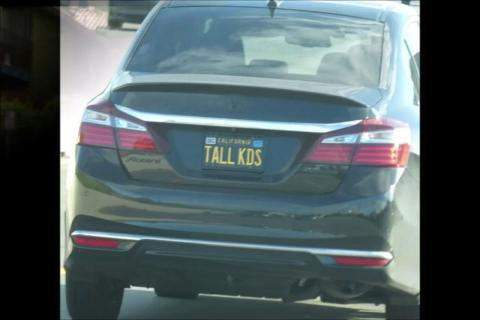LicensePlate: (202, 134, 262, 168)
